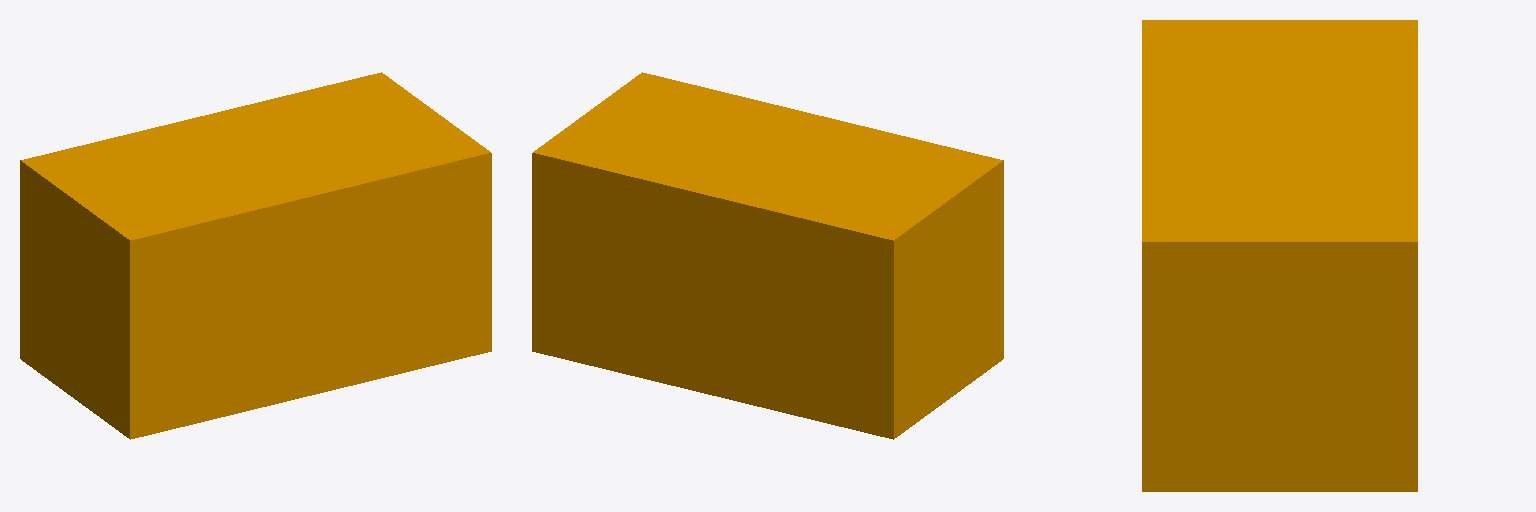
URDF robot description (object):
<?xml version="1.0"?>
<!-- Auto-generated by tools/gen_primitive_objects.py. kind=box dims=(0.095, 0.05, 0.05) -->
<robot name="object">
  <link name="object">
    <visual>
      <origin xyz="0 0 0"/>
      <geometry>
        <box size="0.095000 0.050000 0.050000"/>
      </geometry>
    </visual>
    <collision>
      <origin xyz="0 0 0"/>
      <geometry>
        <box size="0.095000 0.050000 0.050000"/>
      </geometry>
    </collision>
    <inertial>
      <mass value="0.047500"/>
      <inertia ixx="0.00001979" ixy="0.0" ixz="0.0" iyy="0.00004562" iyz="0.0" izz="0.00004562"/>
    </inertial>
  </link>
</robot>

--- Render facts (derived) ---
The picture shows the robot from 3 angles, left to right: view 1: azimuth 30°, elevation 25°; view 2: azimuth 150°, elevation 25°; view 3: azimuth 270°, elevation 25°; orthographic projection.
Robot: object — 1 links, 0 joints (none); root link object; default pose: every joint at zero.
Links seen in each view (by area): view 1: object; view 2: object; view 3: object.
Boxes of the visible links, x1,y1,x2,y2 form: object: (20, 72, 491, 439); object: (532, 72, 1003, 439); object: (1142, 20, 1417, 491).
Size in the robot's own frame: 0.095 by 0.05 by 0.05 metres.
Geometry: primitives only (box / cylinder / sphere), no mesh files.
